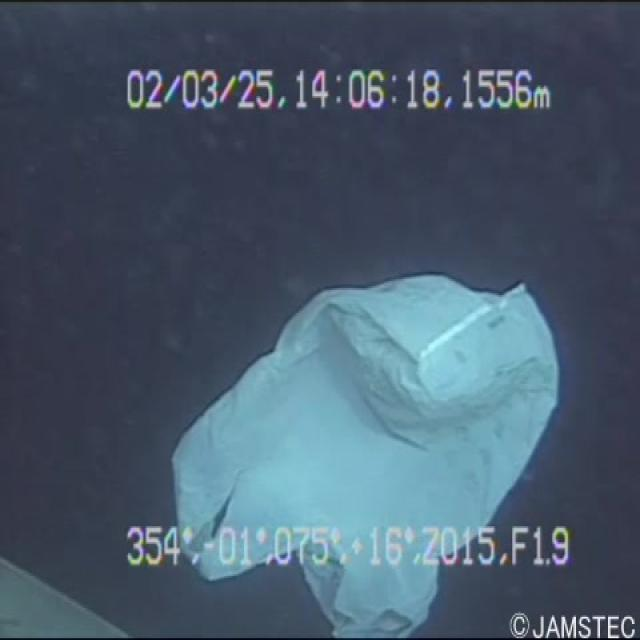plastic: (154, 215, 566, 638)
